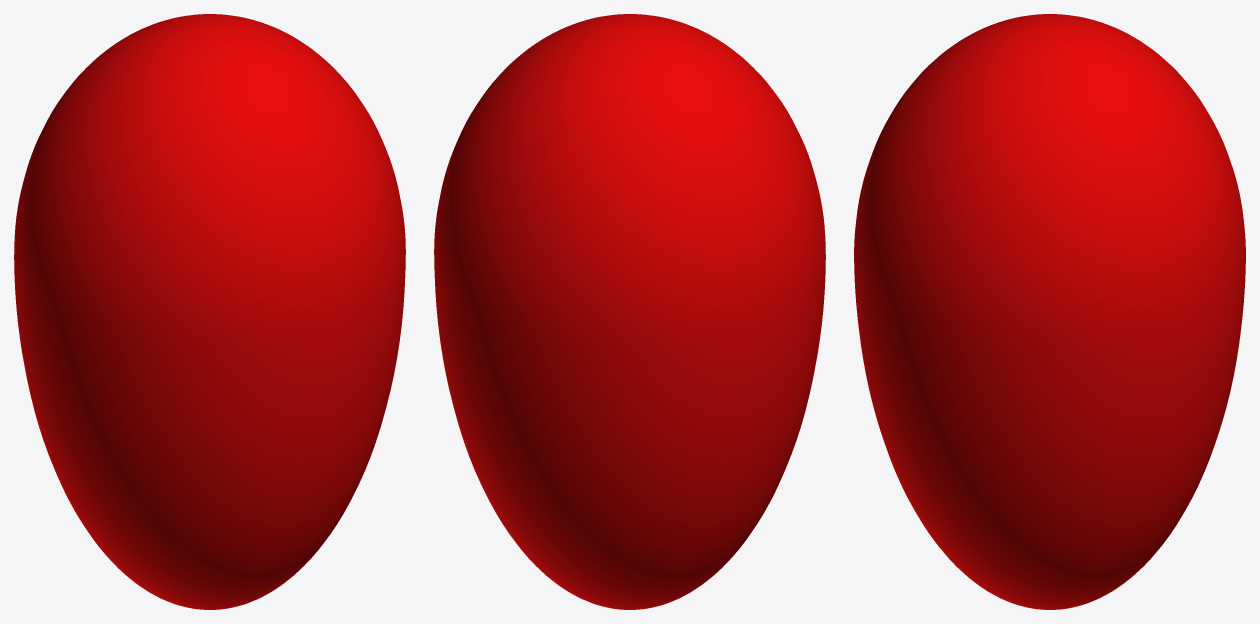
Rendered from Foot.dae.
3 renders of one model, left to right at view 1: azimuth 30°, elevation 25°; view 2: azimuth 150°, elevation 25°; view 3: azimuth 270°, elevation 25°, orthographic.
Parts seen in each view (by area): view 1: Sphere; view 2: Sphere; view 3: Sphere.
Part boxes in pixels (x1,y1,x2,y2): Sphere: (14, 14, 405, 609); Sphere: (434, 14, 825, 609); Sphere: (854, 14, 1245, 609).
Size of the model in its own units: 1.51 by 1.51 by 2.43.
